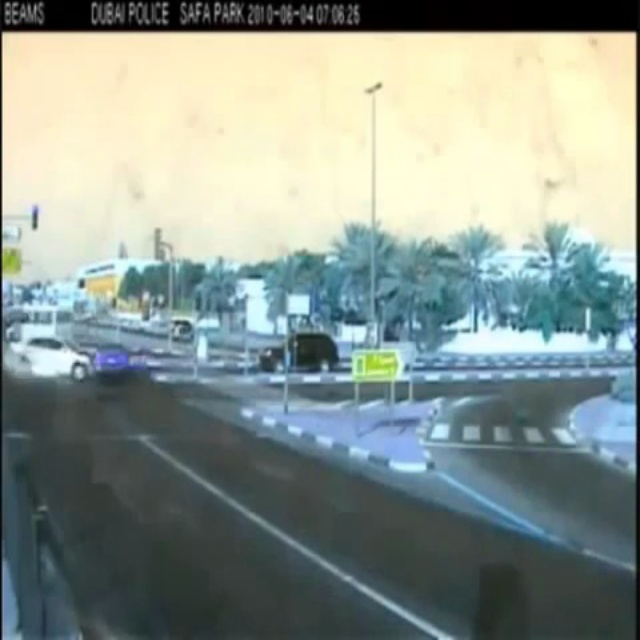acc: (9, 330, 144, 390)
